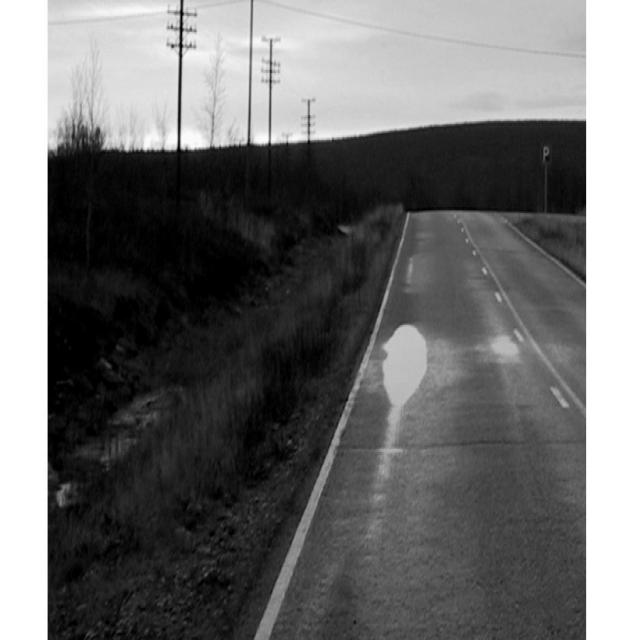cleat: (202, 150, 640, 640)
